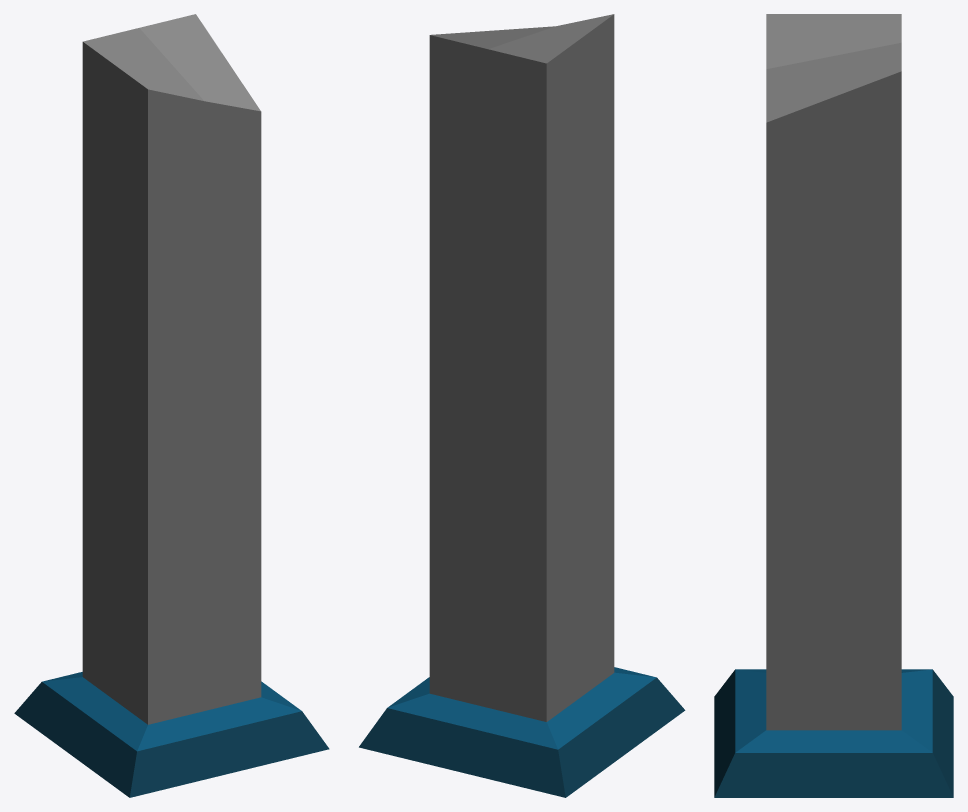
File: pillar_type_06.fbx
3 renders of one model, left to right at view 1: azimuth 30°, elevation 25°; view 2: azimuth 150°, elevation 25°; view 3: azimuth 270°, elevation 25°, orthographic. The views are drawn at different scales.
Visible parts, largest first — view 1: pillar_type_06; view 2: pillar_type_06; view 3: pillar_type_06.
Boxes of the visible parts, box(x1,y1,x2,y2) form: pillar_type_06: box(14, 14, 329, 797); pillar_type_06: box(359, 14, 685, 797); pillar_type_06: box(714, 14, 953, 797).
Size of the model in its own units: 61.29 by 199 by 61.29.
